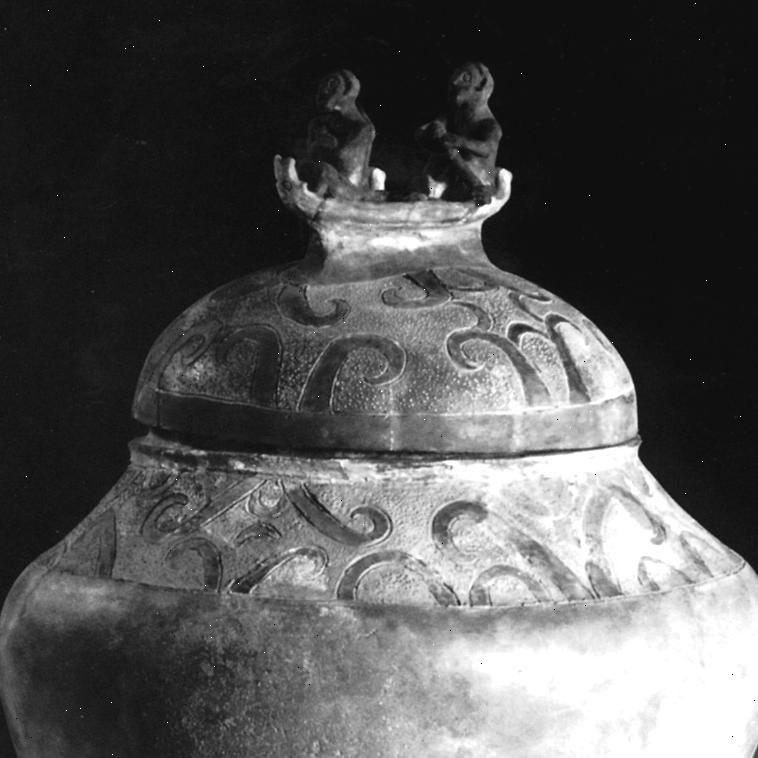manunggul_jar: (0, 52, 758, 758)
